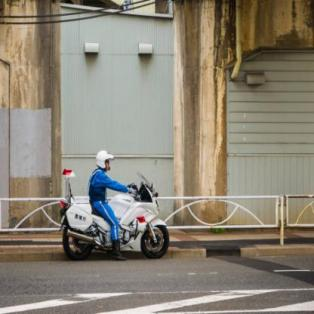Motocicleta: (55, 171, 171, 262)
